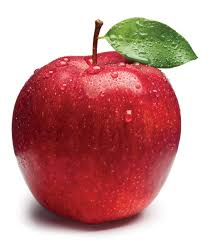apple: (14, 56, 177, 222)
